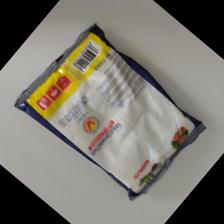Salt: (12, 24, 205, 202)
